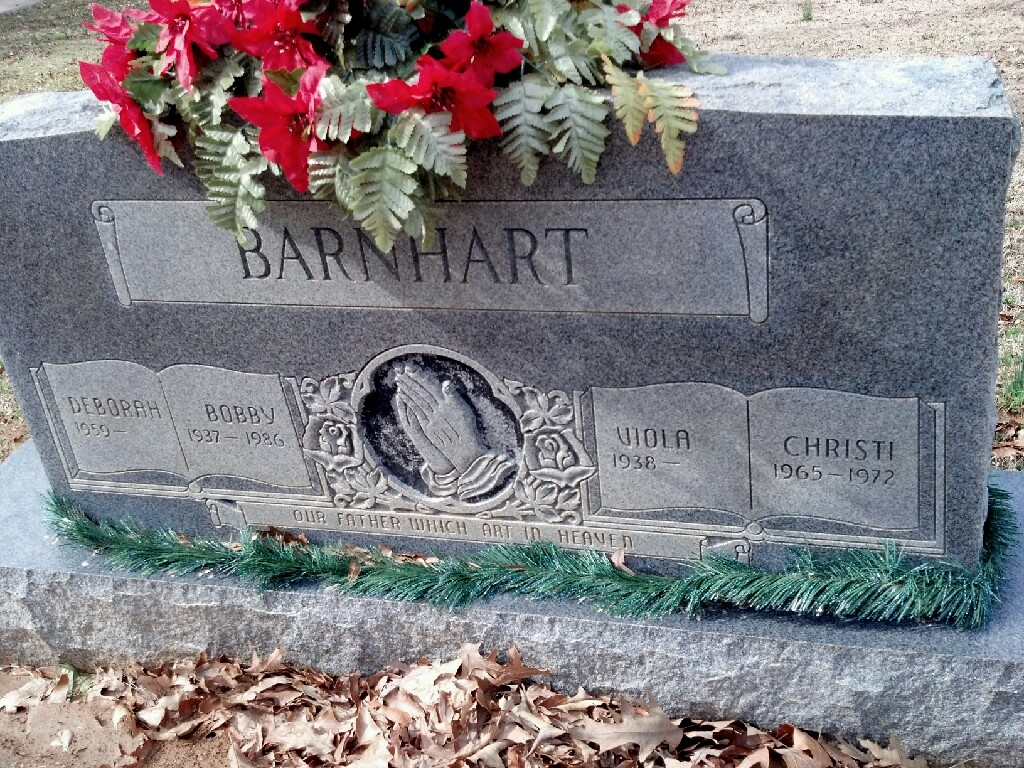upright: (14, 6, 1018, 755)
